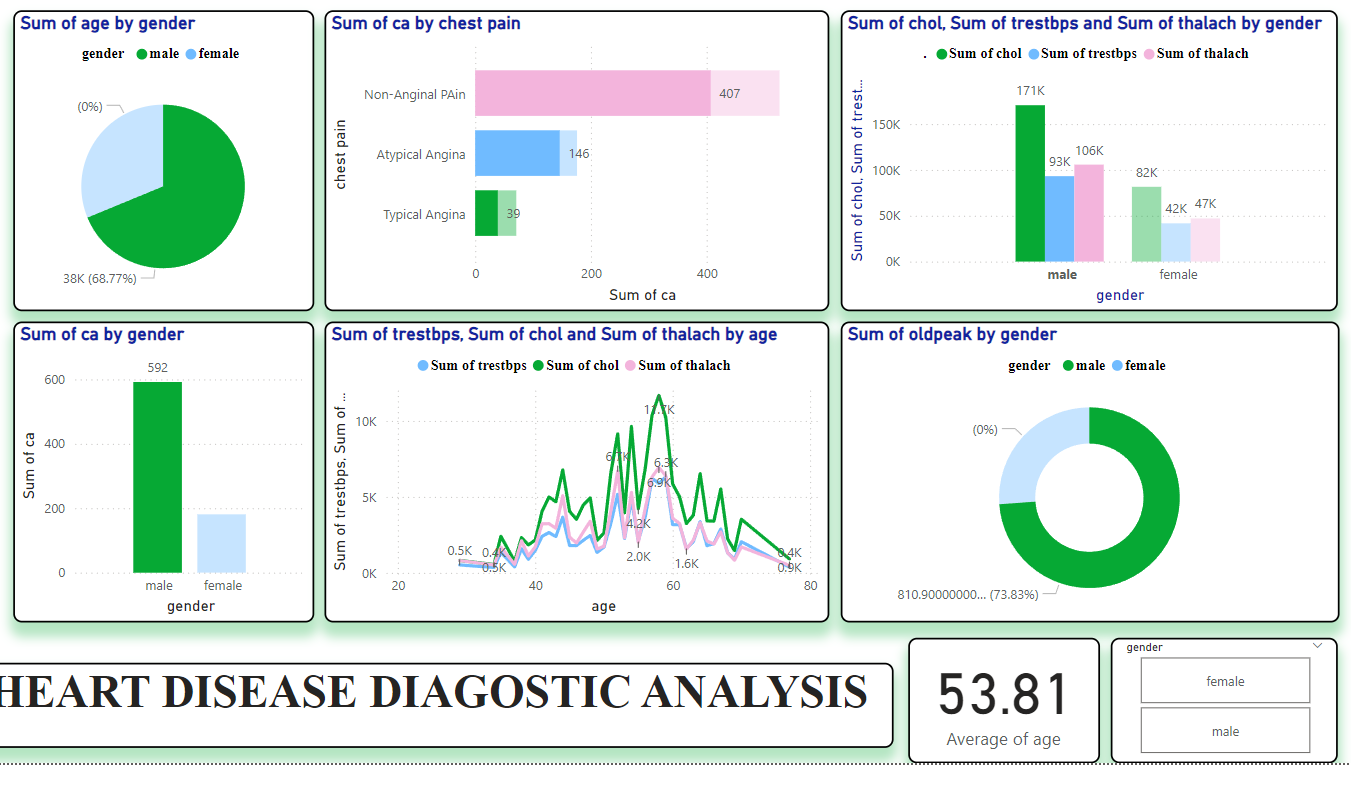

Layout of this report page (visuals, bound fields, positions):
{"tool":"powerbi","page":{"name":"Page 1","canvas":[1280,720],"ordinal":0},"visuals":[{"type":"pieChart","fields":{"Category":["Heart Disease data.gender "],"Y":["Sum(Heart Disease data.age)"]},"box":[28.8,19.2,279.9,279.9],"z":0},{"type":"clusteredColumnChart","fields":{"Y":["Sum(Heart Disease data.ca)"],"Category":["Heart Disease data.gender "]},"box":[29,309,280,280],"z":1000},{"type":"barChart","fields":{"Category":["Heart Disease data.chest pain"],"Y":["Sum(Heart Disease data.ca)"]},"box":[318.4,19.2,469.3,279.9],"z":2000},{"type":"lineChart","fields":{"Category":["Heart Disease data.age"],"Y":["Sum(Heart Disease data.trestbps)","Sum(Heart Disease data.chol)","Sum(Heart Disease data.thalach)"]},"box":[318.4,308.7,469.3,279.9],"z":3000},{"type":"clusteredColumnChart","fields":{"Y":["Sum(Heart Disease data.chol)","Sum(Heart Disease data.trestbps)","Sum(Heart Disease data.thalach)"],"Category":["Heart Disease data.gender "]},"box":[798.6,19.2,462.4,279.9],"z":4000},{"type":"donutChart","fields":{"Category":["Heart Disease data.gender "],"Y":["Sum(Heart Disease data.oldpeak)"]},"box":[798.6,308.7,463.8,279.9],"z":5000},{"type":"slicer","fields":{"Values":["Heart Disease data.gender "]},"box":[1049.7,603.8,211.3,116.6],"z":6000},{"type":"card","fields":{"Values":["Avg(Heart Disease data.age)"]},"box":[861.8,603.8,178.4,116.6],"z":7000},{"type":"textbox","box":[0,627.1,848,79.6],"z":8000}]}

Visuals, with their boxes in screenshot pixels (x1, y1, x2, y2):
pieChart - Heart Disease data.gender  x Sum(Heart Disease data.age): bbox=(6, 3, 308, 305)
clusteredColumnChart - Sum(Heart Disease data.ca) x Heart Disease data.gender : bbox=(7, 316, 309, 618)
barChart - Heart Disease data.chest pain x Sum(Heart Disease data.ca): bbox=(319, 3, 825, 305)
lineChart - Heart Disease data.age x Sum(Heart Disease data.trestbps): bbox=(319, 316, 825, 618)
clusteredColumnChart - Sum(Heart Disease data.chol) x Sum(Heart Disease data.trestbps): bbox=(837, 3, 1336, 305)
donutChart - Heart Disease data.gender  x Sum(Heart Disease data.oldpeak): bbox=(837, 316, 1338, 618)
slicer - Heart Disease data.gender : bbox=(1108, 634, 1336, 760)
card - Avg(Heart Disease data.age): bbox=(905, 634, 1098, 760)
textbox: bbox=(0, 659, 890, 745)
